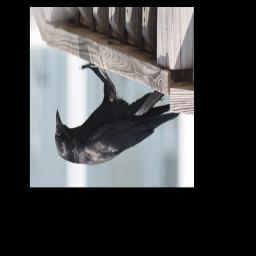Crow: (54, 63, 181, 166)
